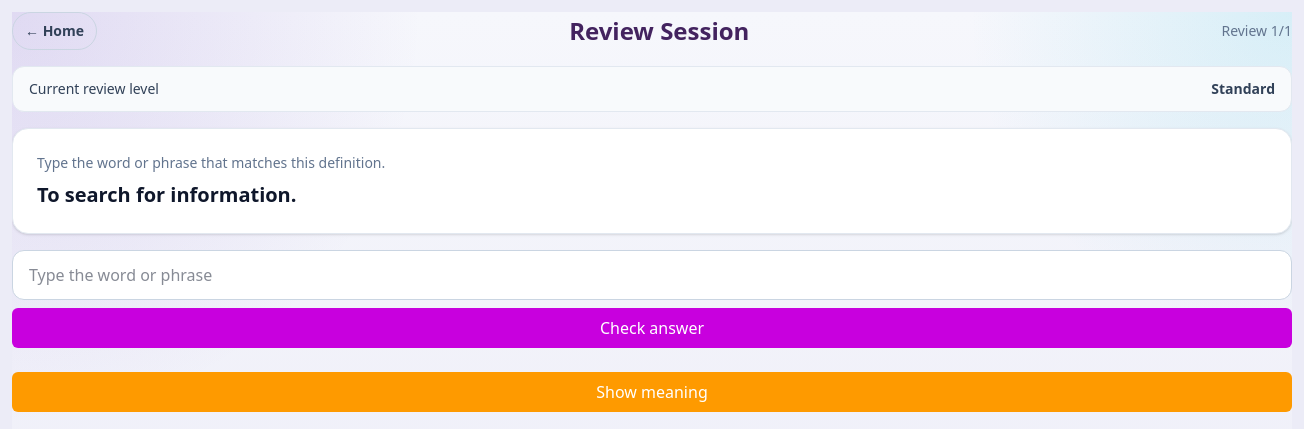
ReviewPage › redirects correct typed recall answers to the detail page and does not finalize inline
Type "  Look, up!! " into the field with placeholder "Type the word or phrase".
click(652, 275); type("  Look, up!! ")  # box [12,250,1292,300]
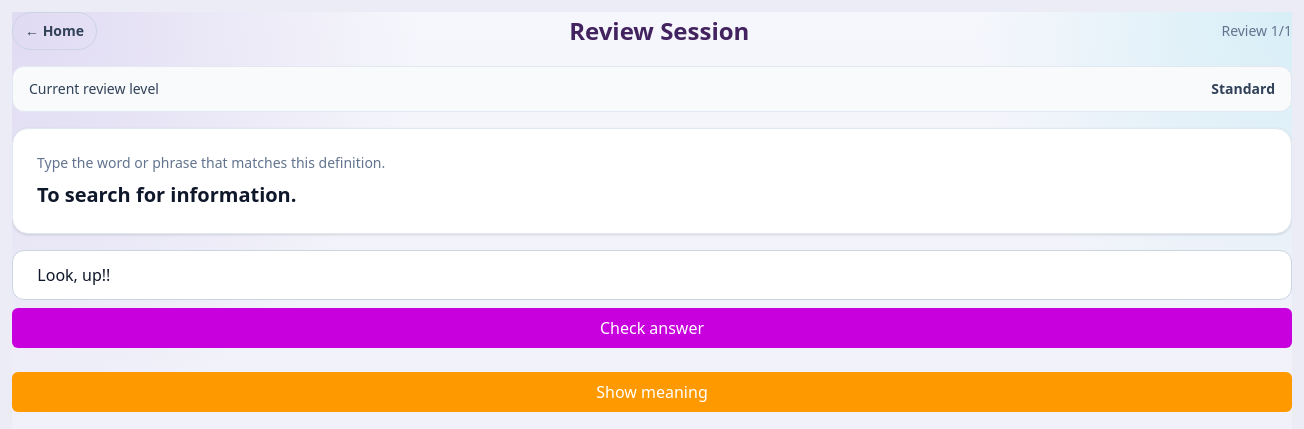
Click the button "Check answer".
click(652, 328)  # box [12,308,1292,348]
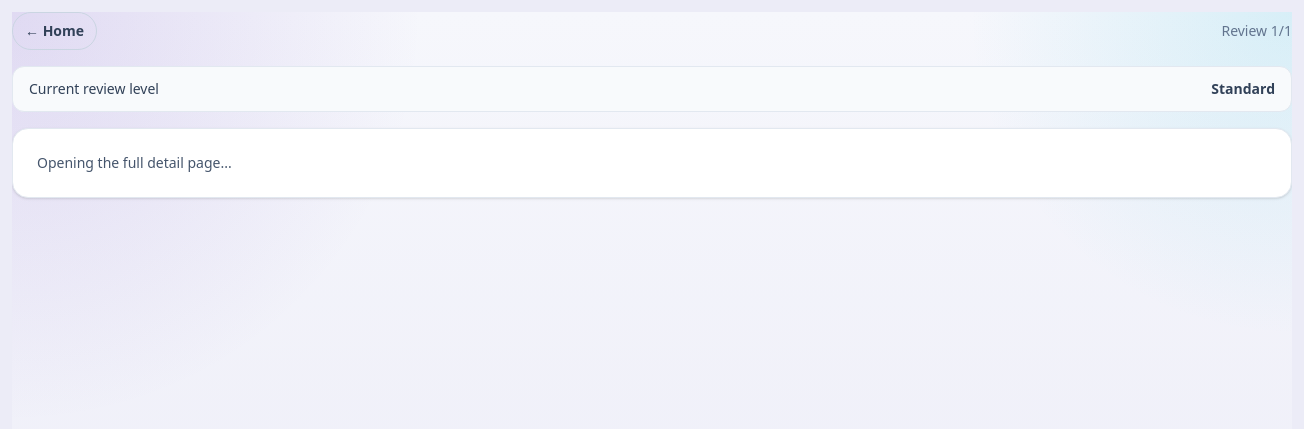
Check: the element with test id "review-redirecting-state" is shown, box [12,12,1292,198]
